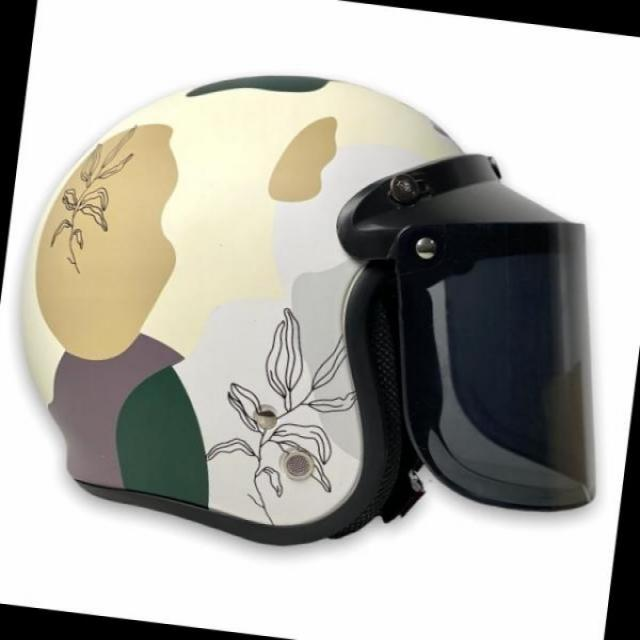Helmet: (14, 98, 633, 560)
